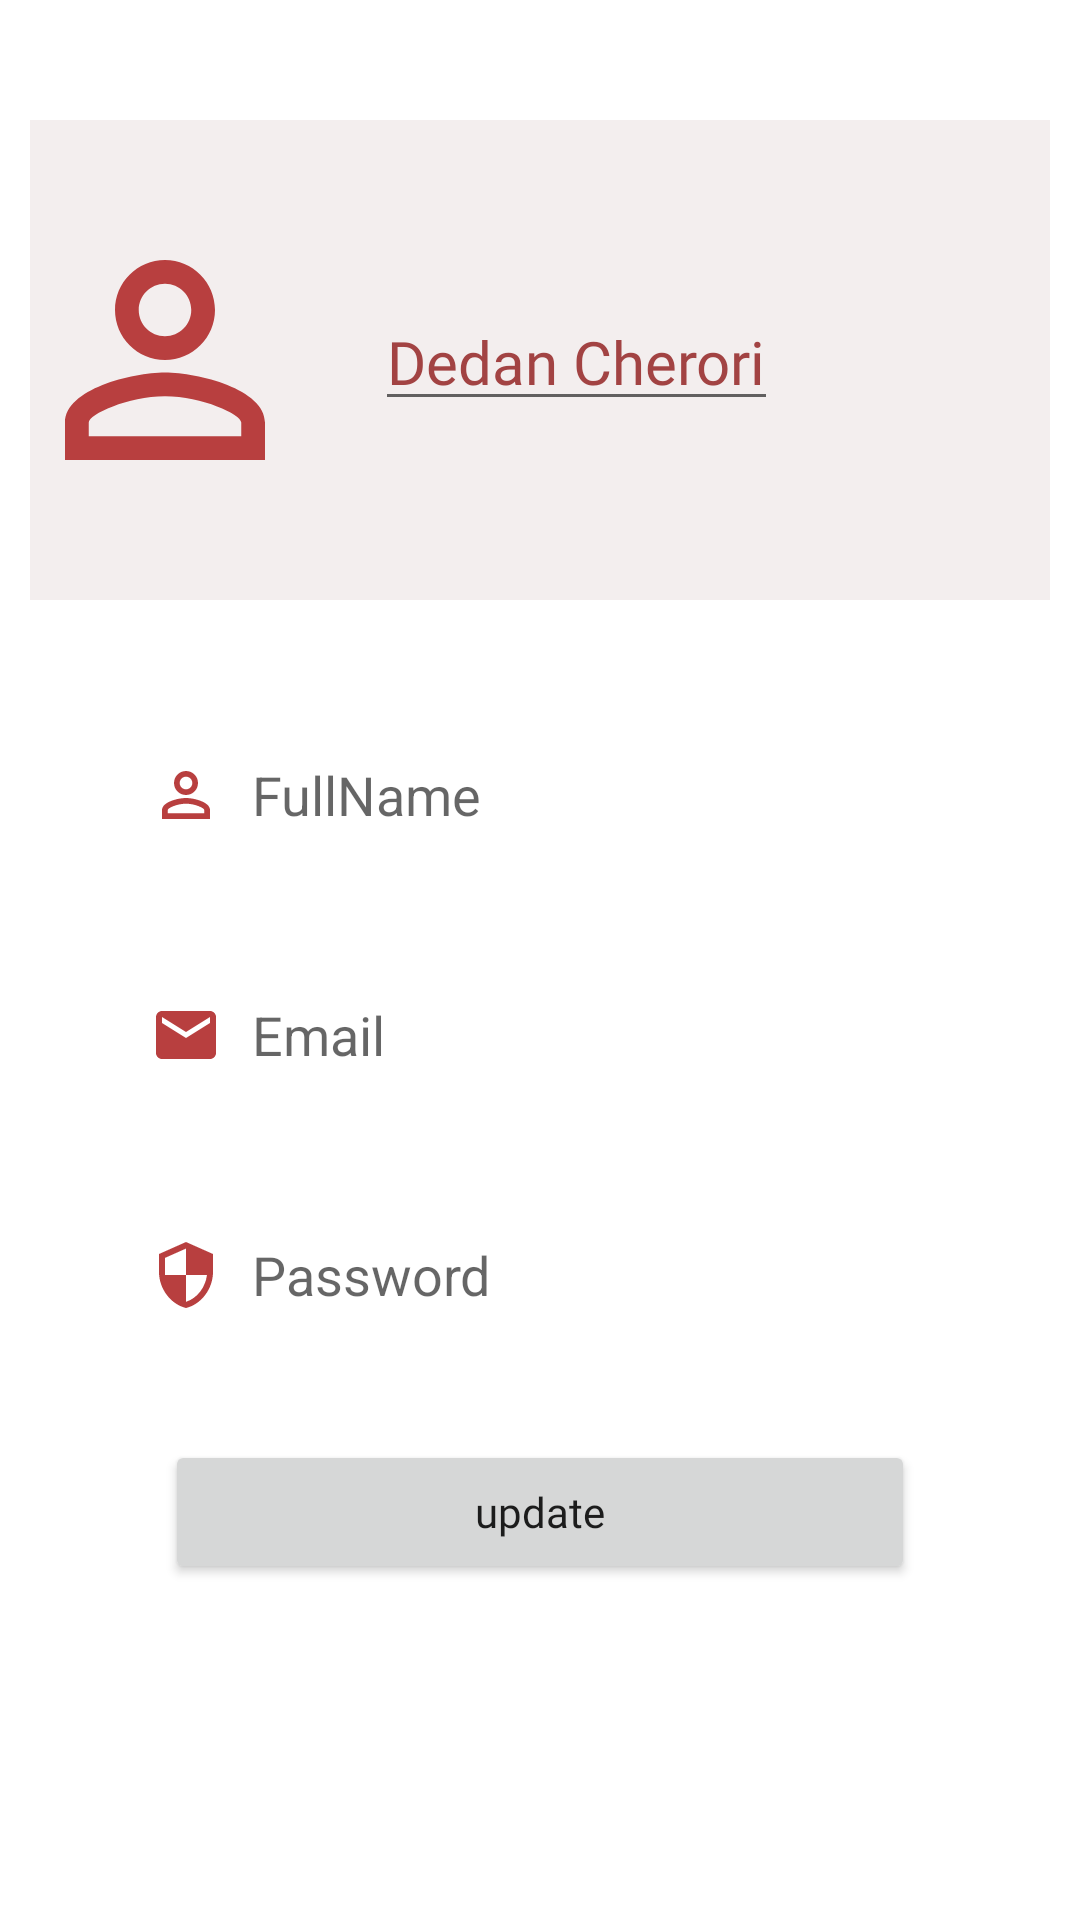

Icon bounding boxes for this 1080 x 1920 phone screenshot, format (left=x1, top=y1, right=x2, bottom=y2):
person: (left=65, top=260, right=265, bottom=460)
